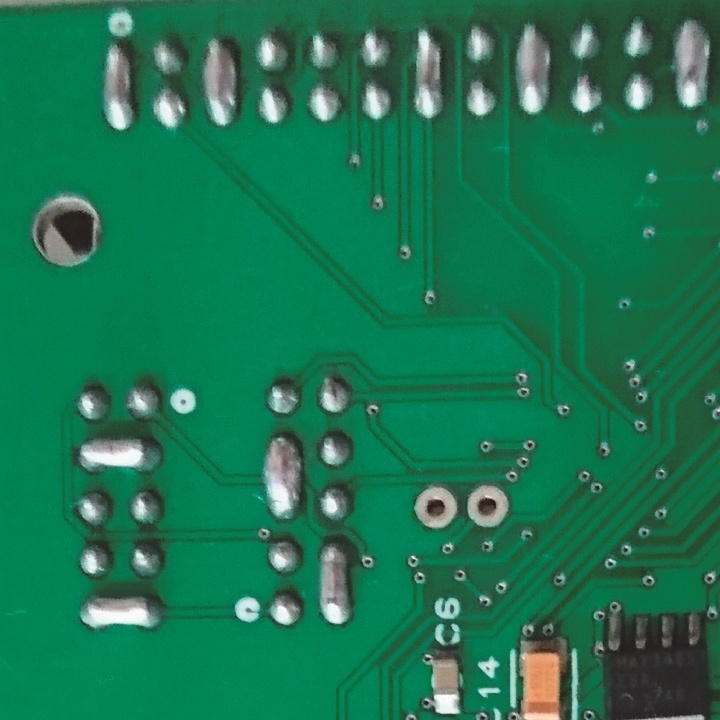F: (410, 483, 458, 531), (463, 483, 513, 528)
P: (670, 16, 717, 114), (512, 19, 556, 120), (196, 35, 244, 127), (76, 588, 165, 637), (259, 430, 305, 523), (73, 433, 166, 476), (410, 26, 450, 120), (315, 536, 354, 629), (101, 40, 139, 135)
